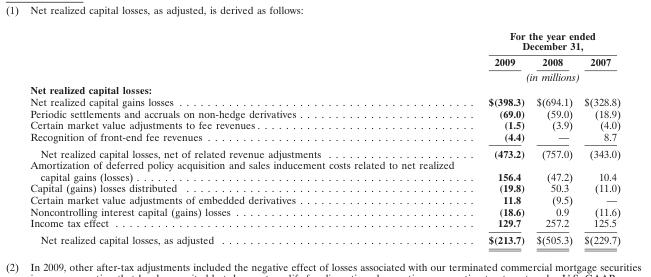table: (29, 29, 619, 245)
table column: (29, 29, 470, 245), (470, 29, 529, 245), (529, 29, 577, 245), (577, 29, 619, 245)
table column header: (29, 29, 619, 83)
table projected row header: (29, 83, 619, 95)
table row: (29, 29, 619, 53), (29, 158, 619, 182), (29, 53, 619, 68), (29, 68, 619, 83), (29, 216, 619, 231), (29, 130, 619, 144), (29, 144, 619, 158), (29, 231, 619, 245), (29, 83, 619, 95), (29, 95, 619, 107), (29, 118, 619, 130), (29, 193, 619, 205), (29, 107, 619, 118), (29, 182, 619, 193), (29, 205, 619, 216)
table spanning cell: (470, 29, 619, 53), (470, 68, 619, 83)
